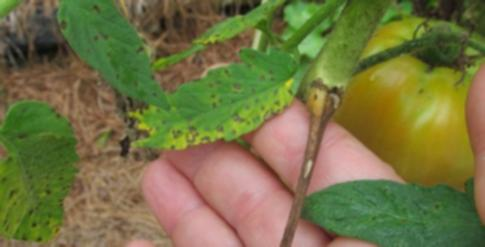Tomato Septoria leaf spot: (126, 47, 305, 156), (61, 0, 177, 114), (303, 176, 485, 247), (0, 98, 79, 245)
